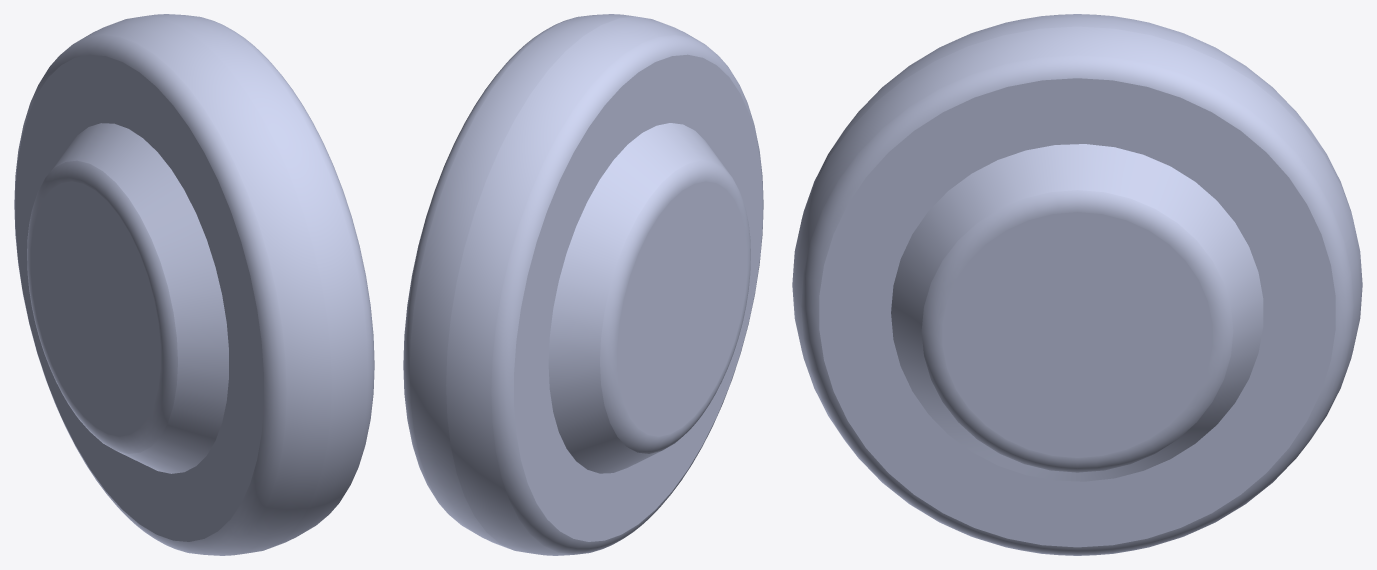
The model's file is left_wheel.dae.
3 views of the same model, side by side, from view 1: azimuth 30°, elevation 25°; view 2: azimuth 150°, elevation 25°; view 3: azimuth 270°, elevation 25° (orthographic). The views are drawn at different scales.
Visible parts, largest first — view 1: Body1; view 2: Body1; view 3: Body1.
Part boxes in pixels (x1,y1,x2,y2): Body1: [14, 14, 374, 555]; Body1: [403, 14, 763, 555]; Body1: [792, 14, 1362, 555].
Bounding box in the file's own units: 0.054 × 0.13 × 0.13.
